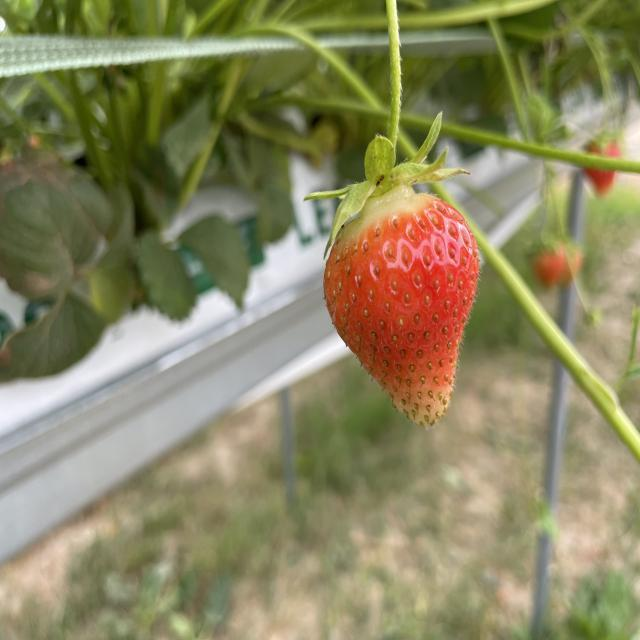stem: (307, 0, 462, 244)
strawberryR: (324, 187, 479, 423)
